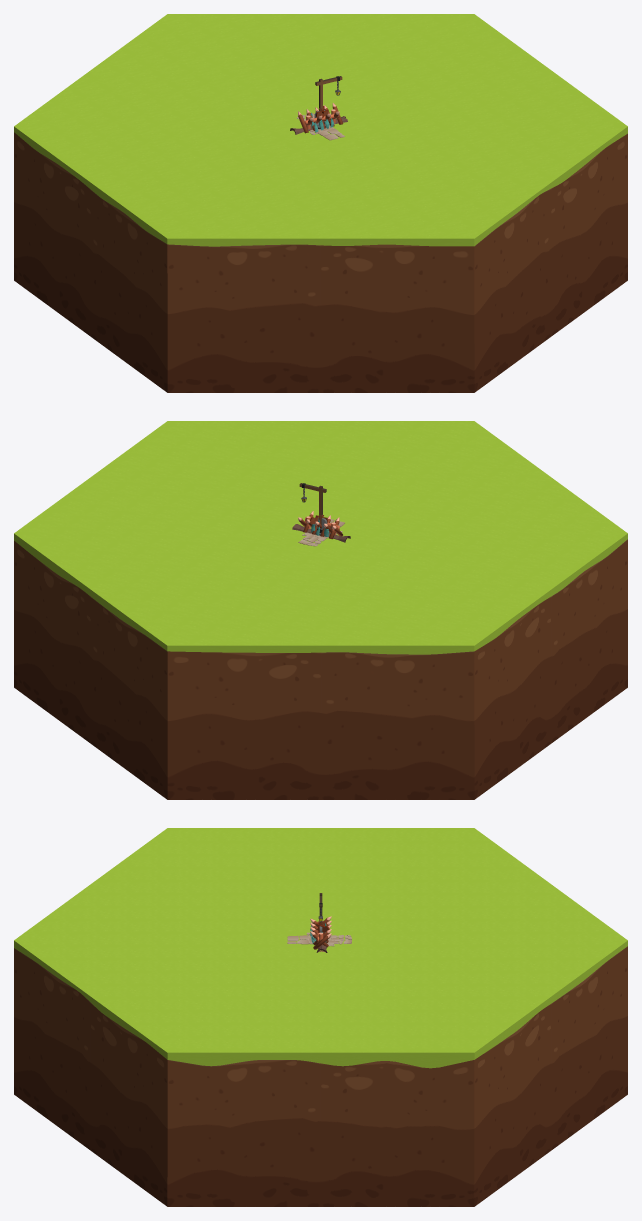
Rendered from HexaGroundEnvironments.fbx.
3 views of the same model, one above another, from view 1: azimuth 30°, elevation 25°; view 2: azimuth 150°, elevation 25°; view 3: azimuth 270°, elevation 25° (orthographic).
Visible parts, largest first — view 1: HexaGround; view 2: HexaGround; view 3: HexaGround.
Boxes of the visible parts, bbox=[...] form: HexaGround: bbox=[14, 14, 627, 392]; HexaGround: bbox=[14, 421, 627, 799]; HexaGround: bbox=[14, 828, 627, 1206].
Bounding box in the file's own units: 34.64 × 14.45 × 40.
